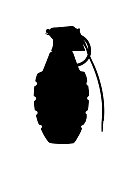e1: (32, 24, 105, 143)
